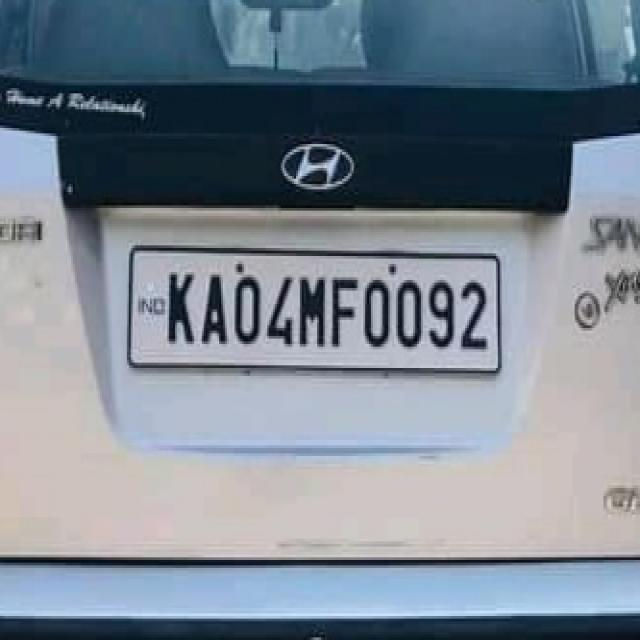0: (230, 265, 266, 354), (362, 265, 392, 355), (392, 272, 424, 352)
4: (265, 278, 296, 354)
9: (425, 274, 458, 353)
A: (201, 264, 232, 352)
F: (328, 267, 360, 354)
K: (163, 262, 198, 352)
M: (294, 268, 328, 358)
